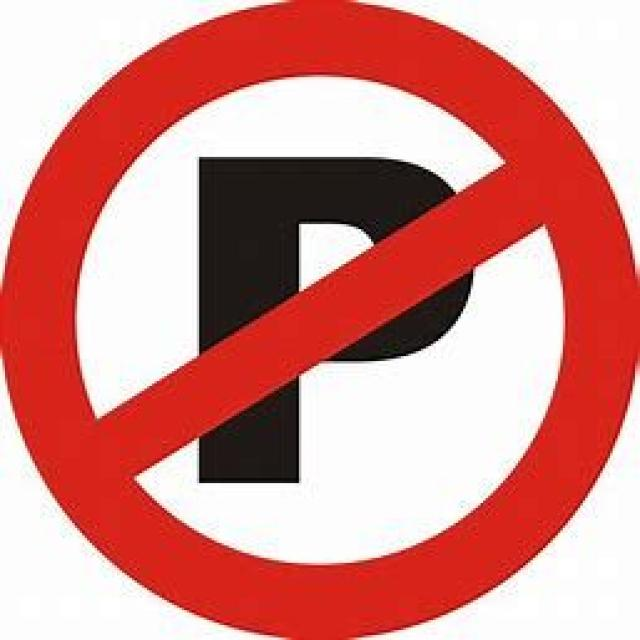do_not_enter: (0, 0, 638, 638)
